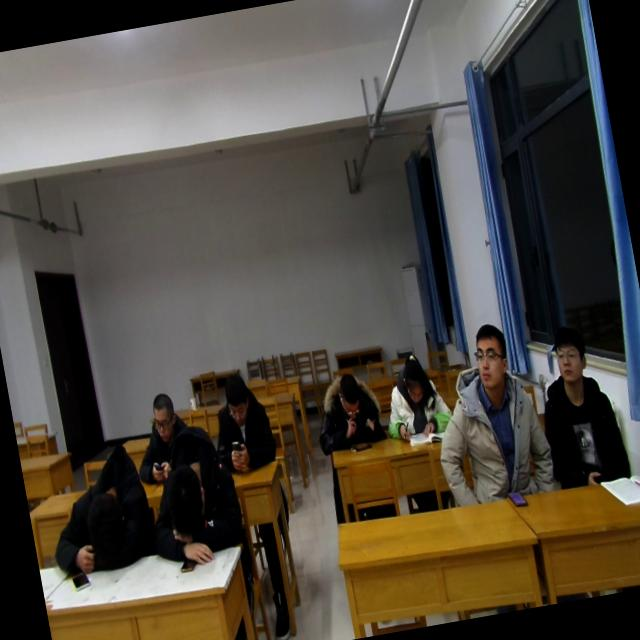bow: (136, 426, 250, 574), (38, 446, 160, 580)
down: (218, 367, 256, 430), (395, 350, 433, 410), (143, 388, 181, 443), (331, 365, 368, 419)
lookup: (466, 314, 514, 392), (545, 320, 591, 387)
sit: (419, 316, 557, 513), (527, 310, 631, 492), (127, 382, 216, 487), (200, 368, 280, 478), (370, 342, 457, 443), (308, 366, 384, 448)
